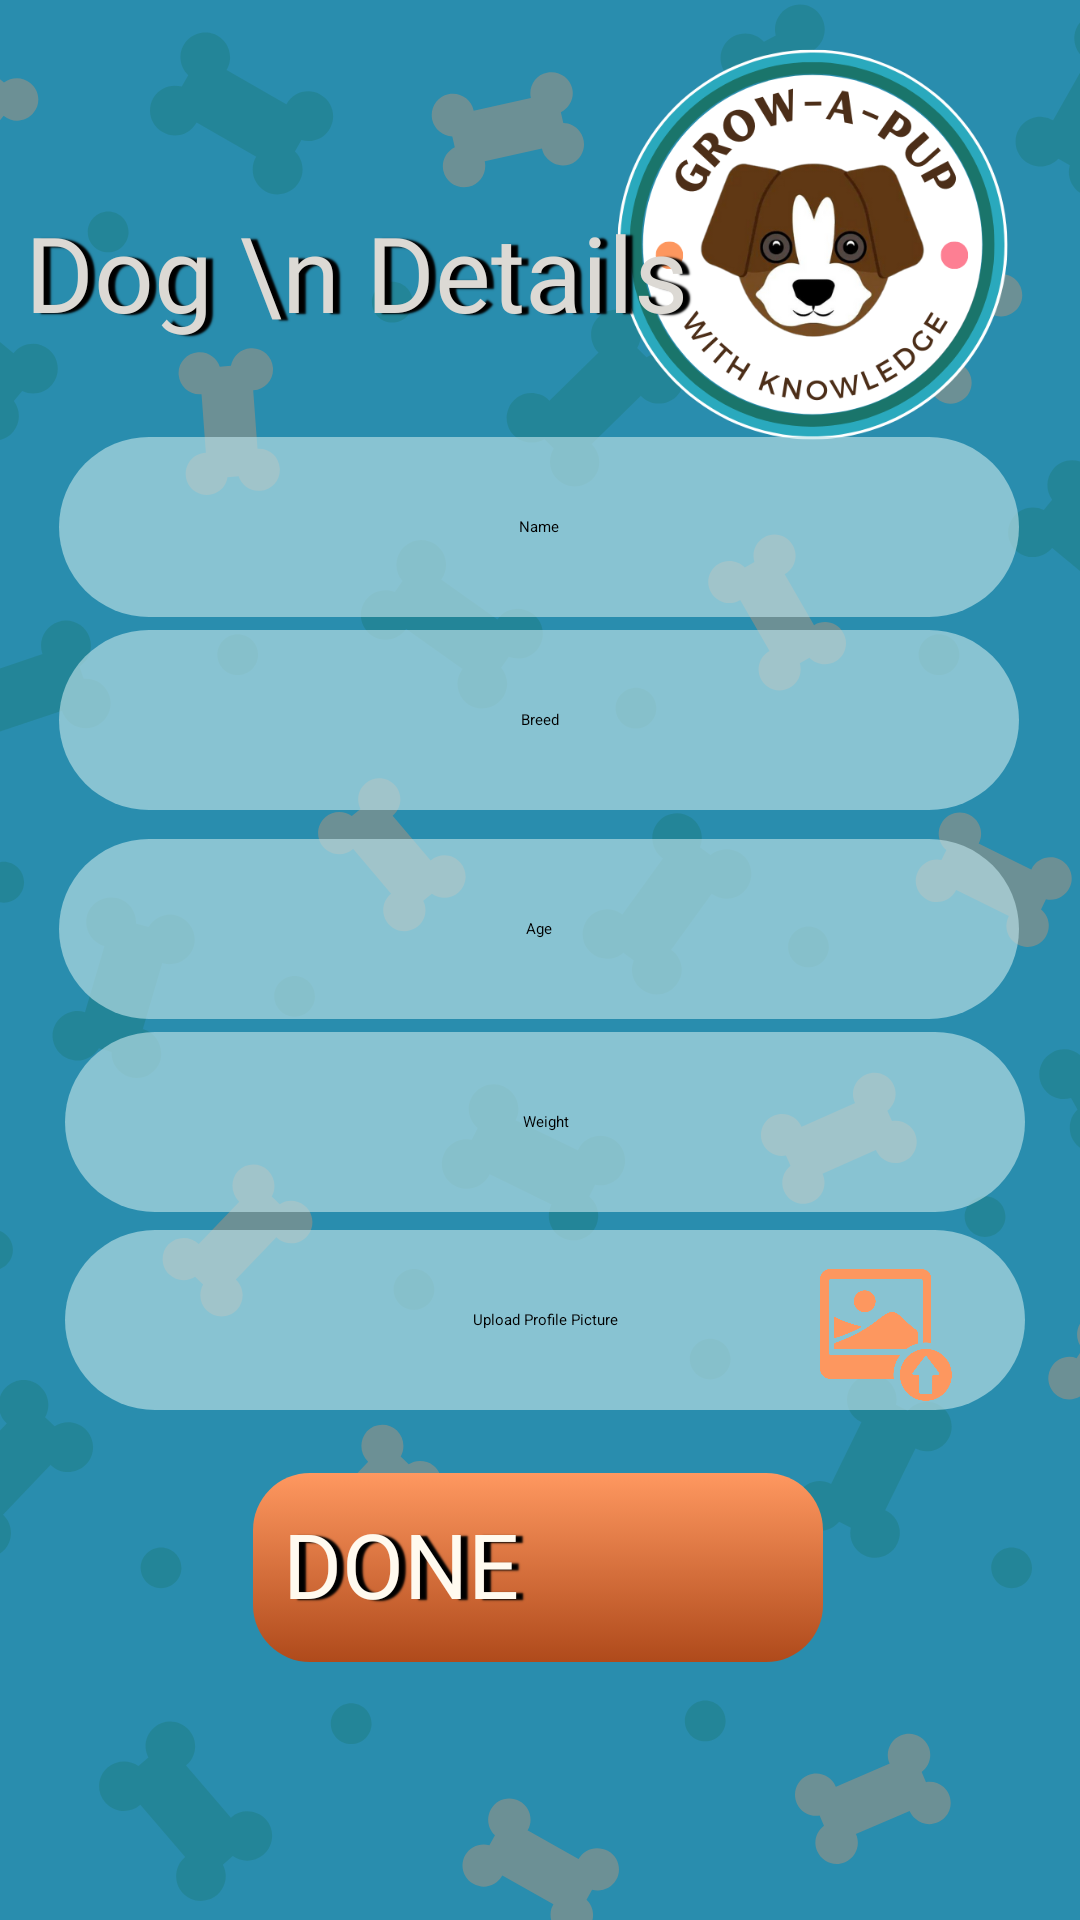

Where icons sit on this 1080 x 1920 app screen, as (x1, y1, x2, y2):
uploadimageicon: (820, 1269, 952, 1401)
